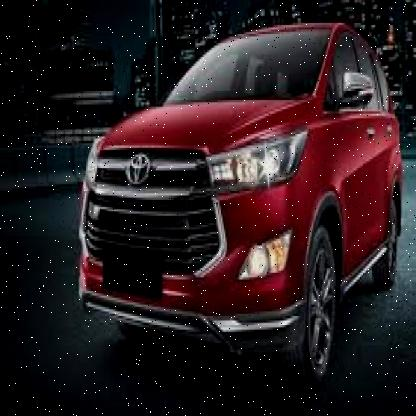car: (72, 18, 408, 384)
